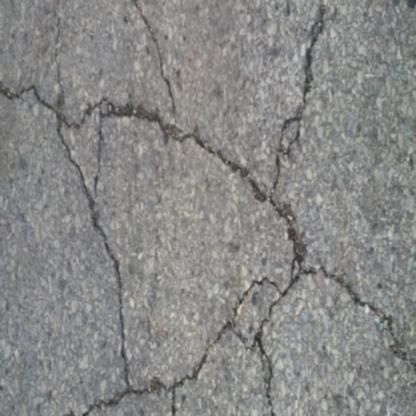Cracks: (0, 72, 309, 416), (301, 235, 416, 416), (267, 0, 337, 199), (129, 0, 181, 134)
